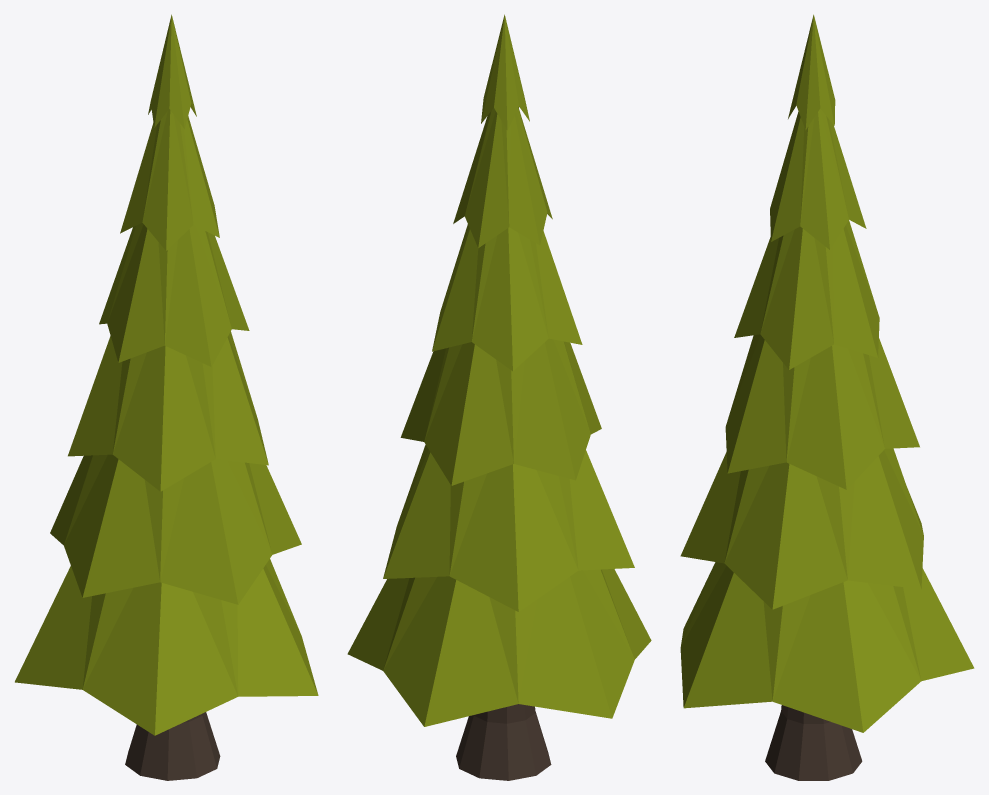
File: spruce_tree2.obj
The picture shows the model from 3 angles, left to right: view 1: azimuth 30°, elevation 25°; view 2: azimuth 150°, elevation 25°; view 3: azimuth 270°, elevation 25°; orthographic projection.
Parts seen in each view (by area): view 1: Cylinder.001; view 2: Cylinder.001; view 3: Cylinder.001.
Boxes of the visible parts, x1=… form: Cylinder.001: x1=15, y1=14, x2=318, y2=780; Cylinder.001: x1=347, y1=14, x2=651, y2=780; Cylinder.001: x1=680, y1=14, x2=974, y2=780.
Size of the model in its own units: 2.19 by 5.9 by 2.11.
